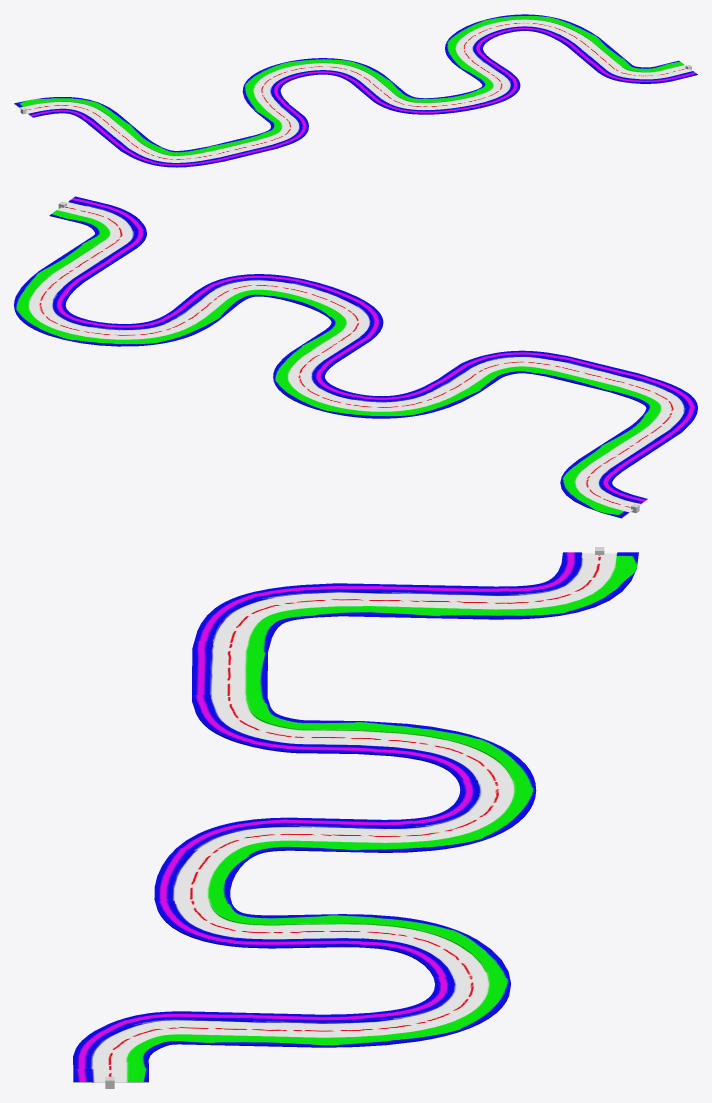
Rendered from BIGSquigglyRoad-FixUV.dae.
3 views of the same model, one above another, from view 1: azimuth 30°, elevation 25°; view 2: azimuth 150°, elevation 25°; view 3: azimuth 270°, elevation 25° (orthographic). The views are drawn at different scales.
Parts seen in each view (by area): view 1: PathPath.002; view 2: PathPath.002; view 3: PathPath.002.
Boxes of the visible parts, x1,y1,x2,y2 form: PathPath.002: (14, 14, 697, 167); PathPath.002: (14, 196, 697, 518); PathPath.002: (73, 552, 638, 1082).
Bounding box in the file's own units: 274 × 123 × 2.
